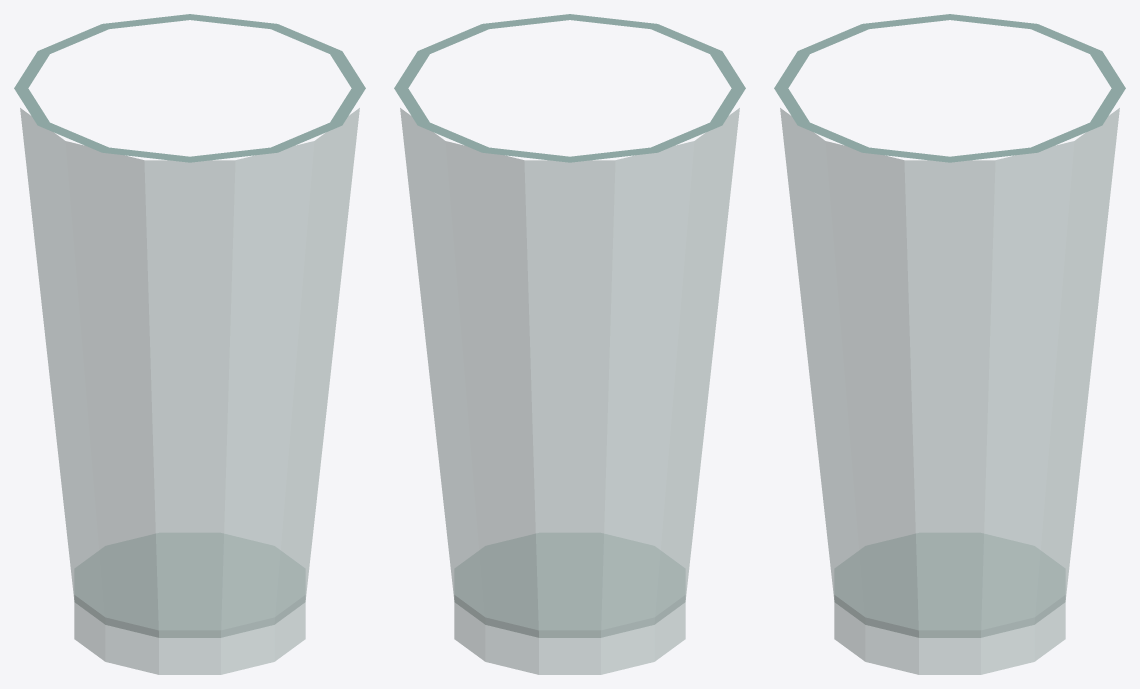
Rendered from glass.glb.
3 renders of one model, left to right at view 1: azimuth 30°, elevation 25°; view 2: azimuth 150°, elevation 25°; view 3: azimuth 270°, elevation 25°, orthographic.
Parts seen in each view (by area): view 1: block_raised sides, block_thick foot, block_rolled rim 3, block_rolled rim 4, block_rolled rim 9, block_rolled rim 10, block_rolled rim 2, block_rolled rim 5, block_rolled rim 8, block_rolled rim 11, block_rolled rim 0, block_rolled rim 7 (+2 smaller); view 2: block_raised sides, block_thick foot, block_rolled rim 7, block_rolled rim 8, block_rolled rim 1, block_rolled rim 2, block_rolled rim 0, block_rolled rim 3, block_rolled rim 6, block_rolled rim 9, block_rolled rim 4, block_rolled rim 11 (+2 smaller); view 3: block_raised sides, block_thick foot, block_rolled rim 0, block_rolled rim 11, block_rolled rim 5, block_rolled rim 6, block_rolled rim 1, block_rolled rim 4, block_rolled rim 7, block_rolled rim 10, block_rolled rim 3, block_rolled rim 8 (+2 smaller).
Boxes of the visible parts, <box> form: block_raised sides: <box>20,108,359,637</box>; block_thick foot: <box>74,533,305,674</box>; block_rolled rim 3: <box>190,147,277,162</box>; block_rolled rim 4: <box>102,147,189,162</box>; block_rolled rim 9: <box>102,14,189,29</box>; block_rolled rim 10: <box>190,14,277,29</box>; block_rolled rim 2: <box>271,122,341,152</box>; block_rolled rim 5: <box>38,122,108,152</box>; block_rolled rim 8: <box>38,24,108,53</box>; block_rolled rim 11: <box>271,24,341,53</box>; block_rolled rim 0: <box>330,51,365,88</box>; block_rolled rim 7: <box>14,51,49,88</box>; block_raised sides: <box>400,108,739,637</box>; block_thick foot: <box>454,533,685,674</box>; block_rolled rim 7: <box>570,147,657,162</box>; block_rolled rim 8: <box>482,147,569,162</box>; block_rolled rim 1: <box>482,14,569,29</box>; block_rolled rim 2: <box>570,14,657,29</box>; block_rolled rim 0: <box>418,24,488,53</box>; block_rolled rim 3: <box>651,24,721,53</box>; block_rolled rim 6: <box>651,122,721,152</box>; block_rolled rim 9: <box>418,122,488,152</box>; block_rolled rim 4: <box>710,51,745,88</box>; block_rolled rim 11: <box>394,51,429,88</box>; block_raised sides: <box>780,108,1119,637</box>; block_thick foot: <box>834,533,1065,674</box>; block_rolled rim 0: <box>862,147,949,162</box>; block_rolled rim 11: <box>950,147,1037,162</box>; block_rolled rim 5: <box>862,14,949,29</box>; block_rolled rim 6: <box>950,14,1037,29</box>; block_rolled rim 1: <box>798,122,868,152</box>; block_rolled rim 4: <box>798,24,868,53</box>; block_rolled rim 7: <box>1031,24,1101,53</box>; block_rolled rim 10: <box>1031,122,1101,152</box>; block_rolled rim 3: <box>774,51,809,88</box>; block_rolled rim 8: <box>1090,51,1125,88</box>.
Bounding box in the file's own units: 0.0949 × 0.16 × 0.0949.
Materials: 2 (2 with a texture image).
